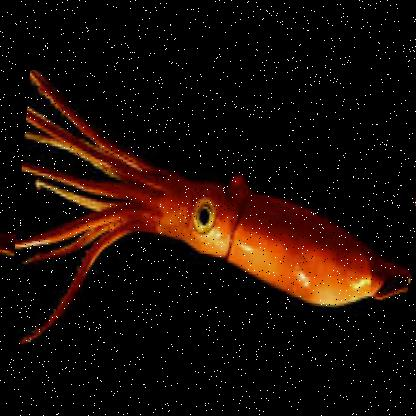colossal_squid: (6, 69, 415, 382)
